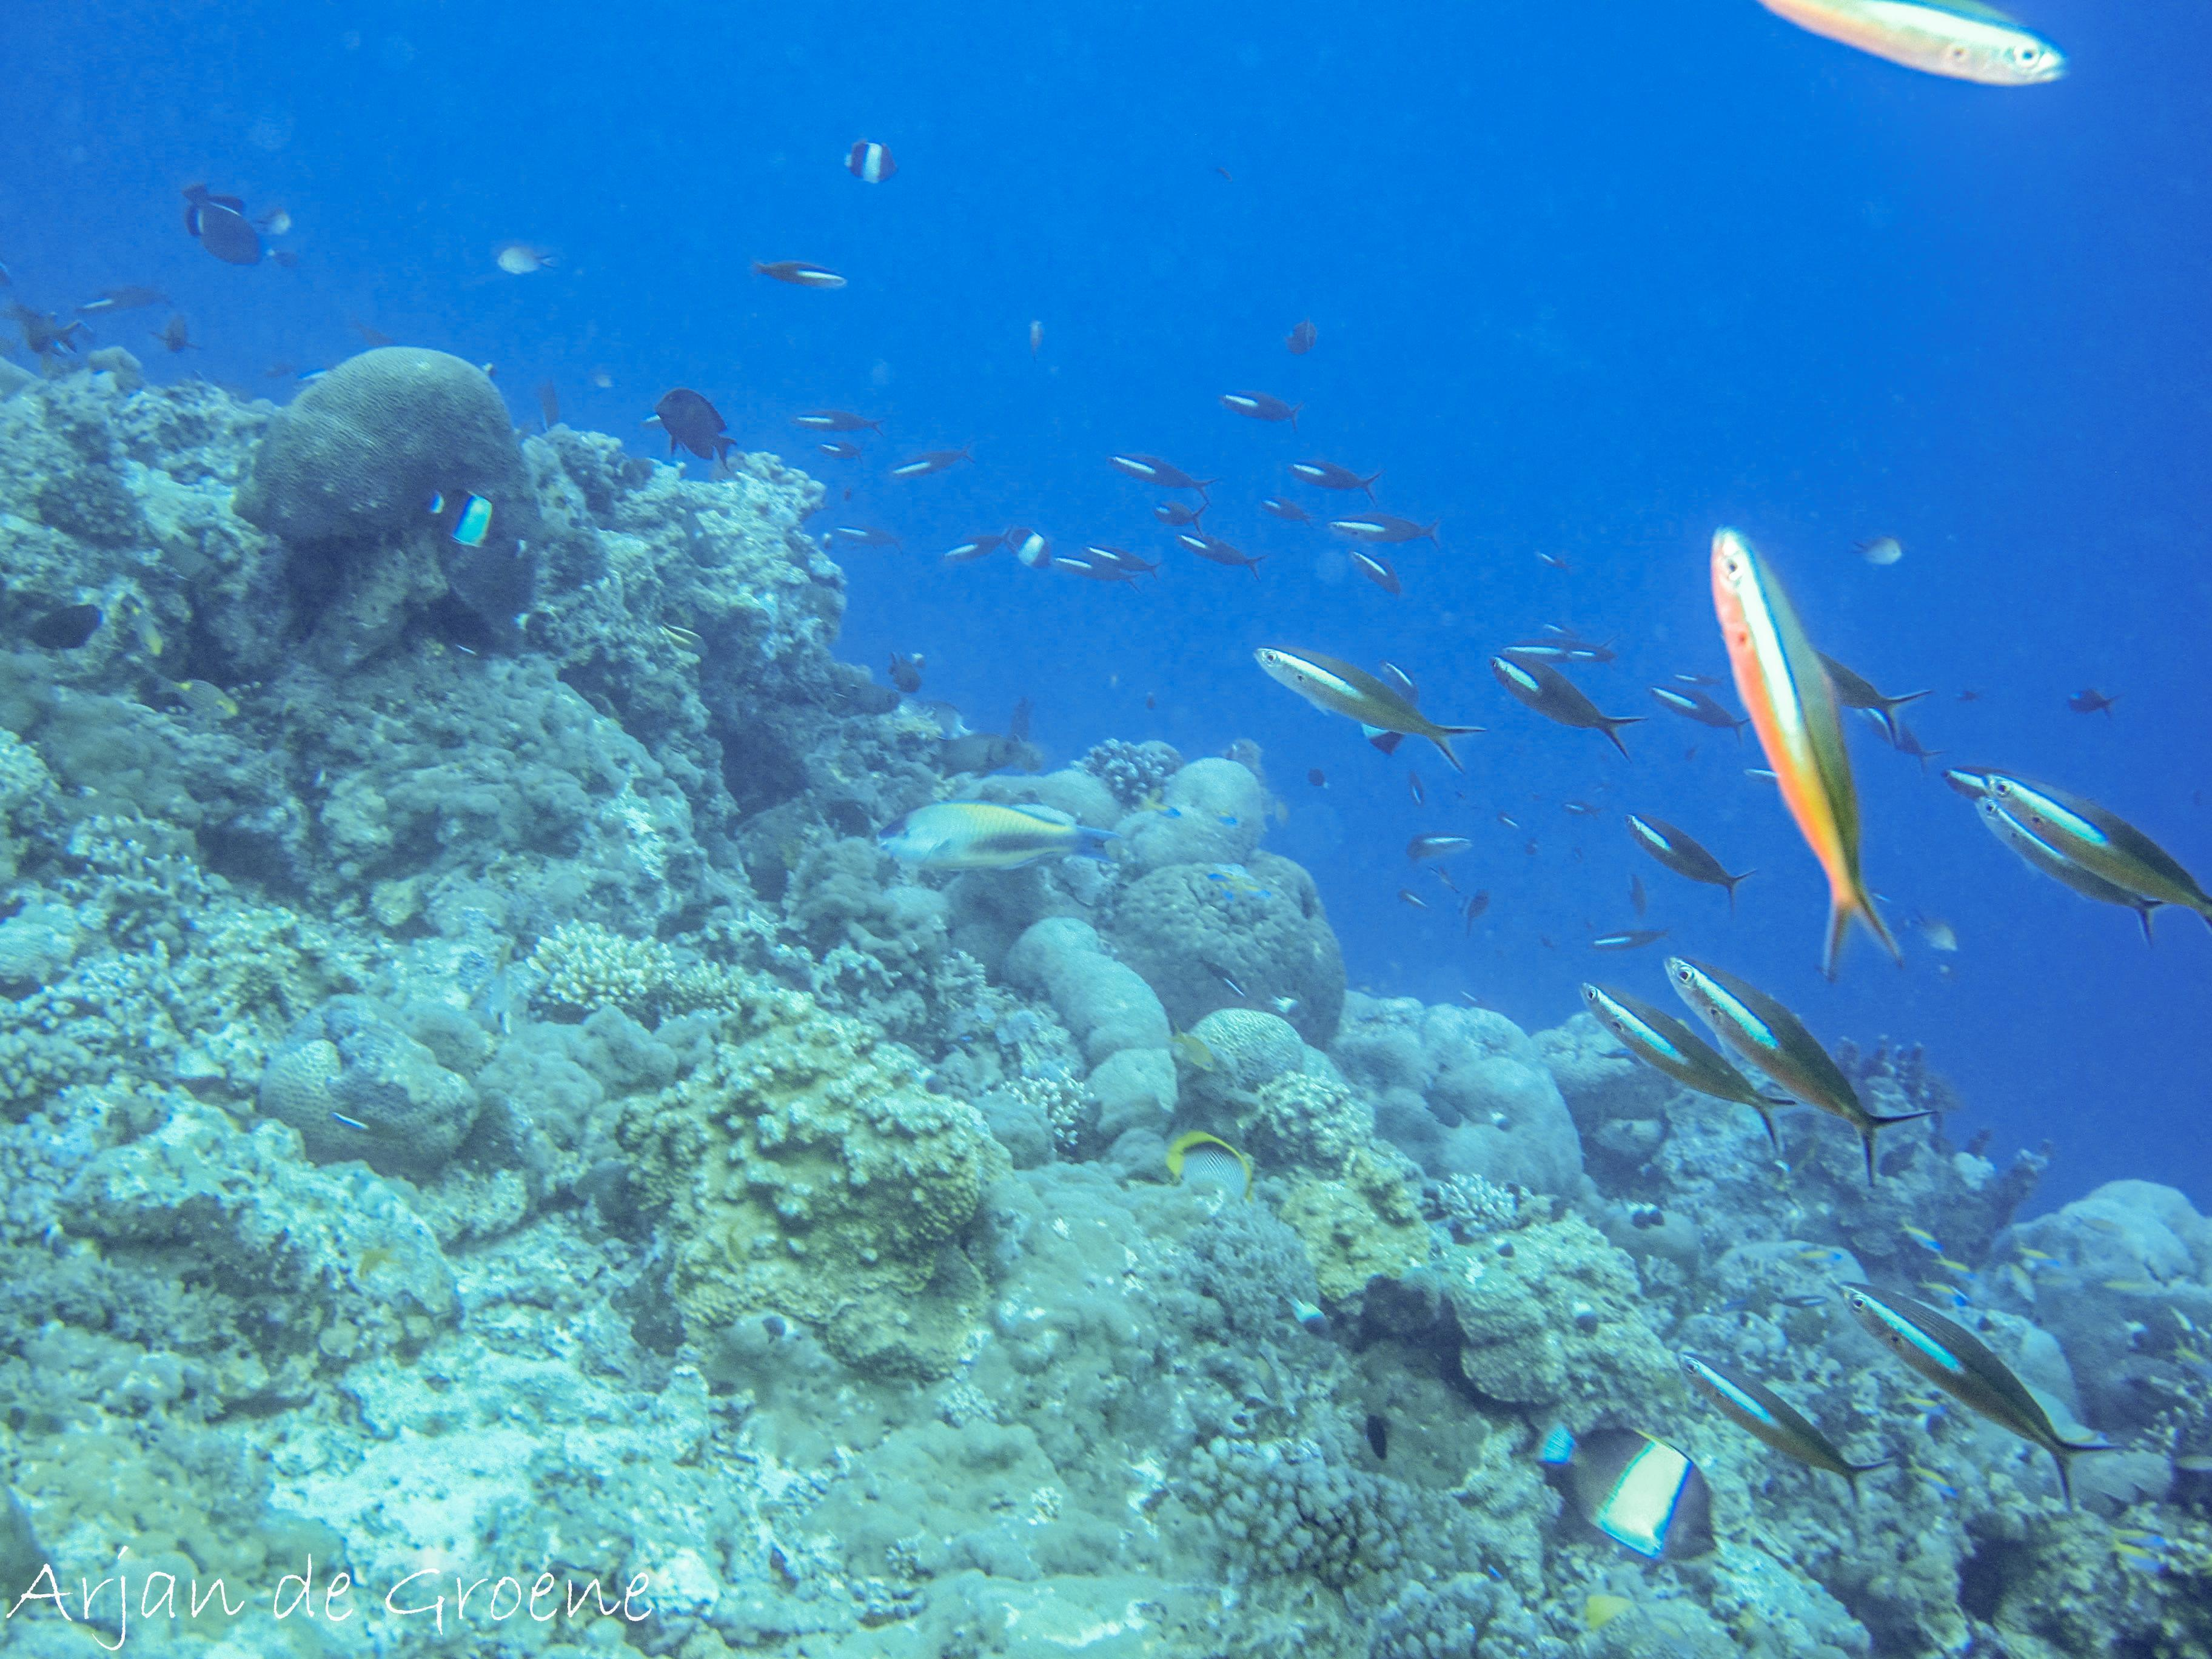Fish: (824, 763, 1172, 927)
